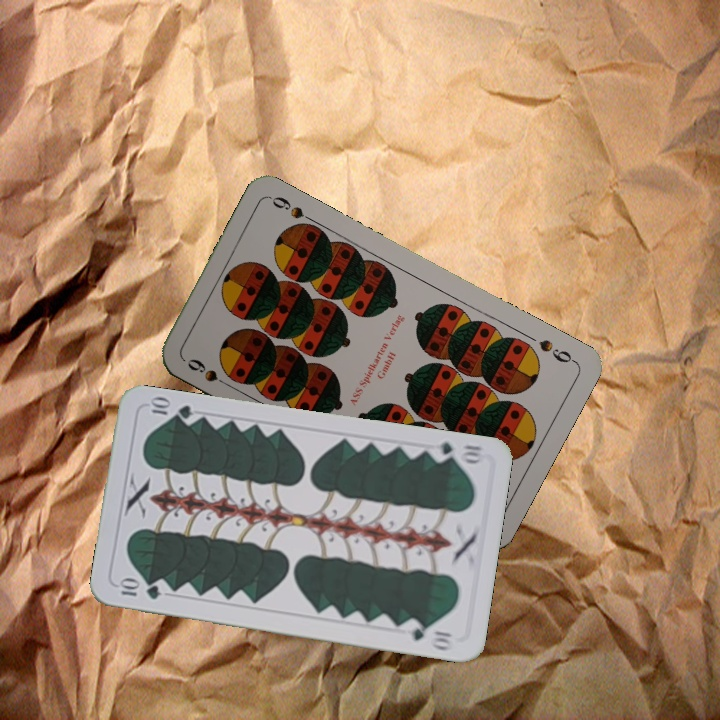G10: (427, 438, 487, 467), (114, 577, 163, 602)
S9: (183, 354, 235, 391), (534, 335, 578, 366)
